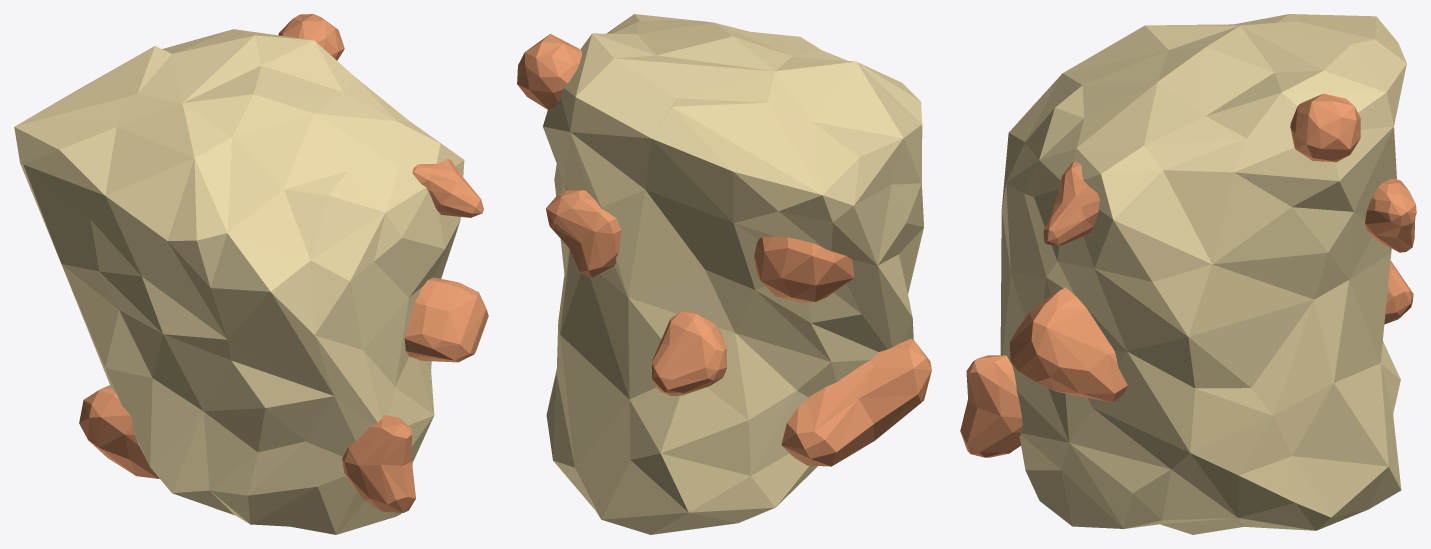
Rendered from StoneOre (53).fbx.
3 views of the same model, side by side, from view 1: azimuth 30°, elevation 25°; view 2: azimuth 150°, elevation 25°; view 3: azimuth 270°, elevation 25° (orthographic). The views are drawn at different scales.
Parts seen in each view (by area): view 1: Asteroid340; view 2: Asteroid340; view 3: Asteroid340.
Part boxes in pixels (x1,y1,x2,y2): Asteroid340: [14, 14, 488, 534]; Asteroid340: [517, 14, 931, 534]; Asteroid340: [960, 14, 1416, 534].
Bounding box in the file's own units: 462 × 546 × 480.
